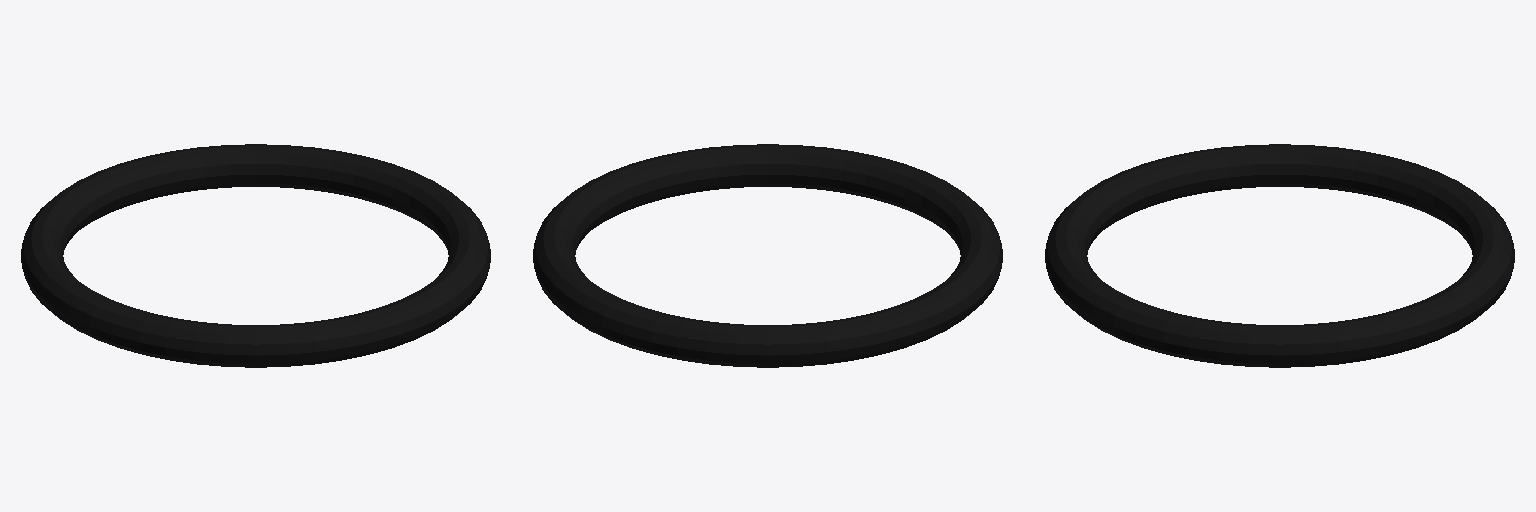
File: feet.sgm.obj
3 views of the same model, side by side, from view 1: azimuth 30°, elevation 25°; view 2: azimuth 150°, elevation 25°; view 3: azimuth 270°, elevation 25° (orthographic).
Parts seen in each view (by area): view 1: 0; view 2: 0; view 3: 0.
Part boxes in pixels (x1,y1,x2,y2): 0: (21, 144, 490, 367); 0: (533, 144, 1002, 367); 0: (1045, 144, 1514, 367).
Bounding box in the file's own units: 0.44 × 0.04 × 0.44.